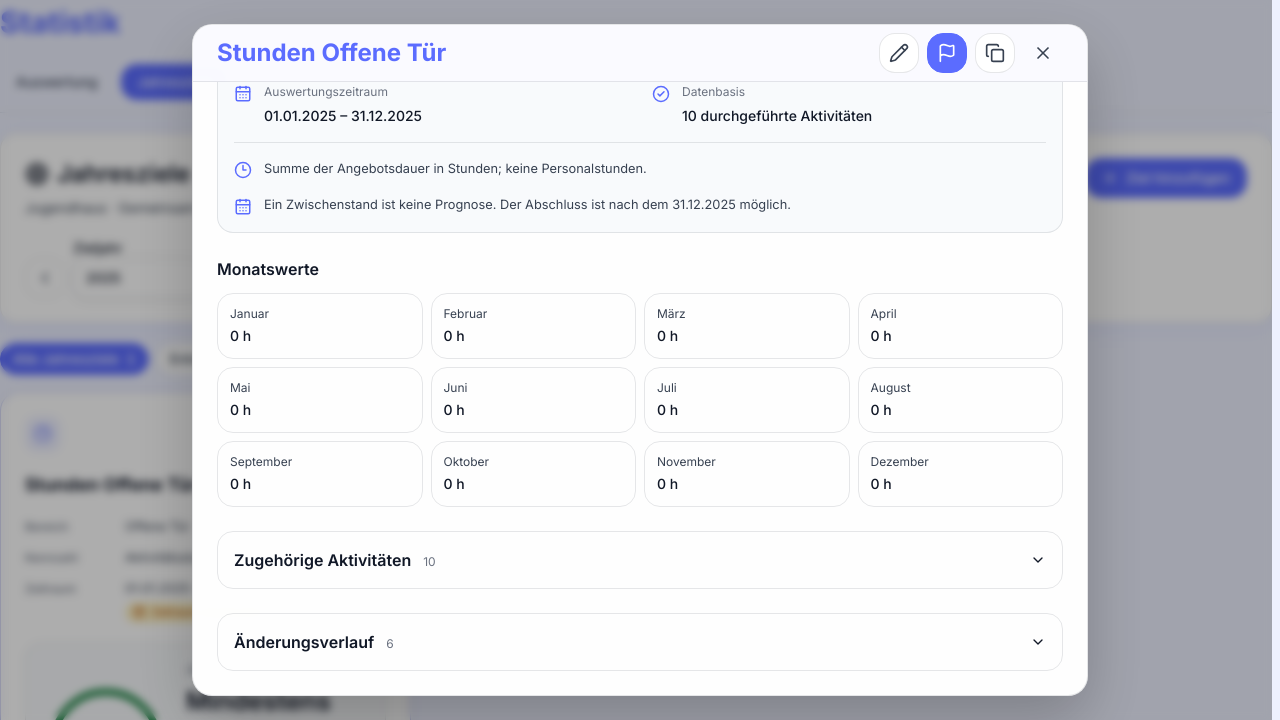
Test case: Annual target UI permissions and flows › shows actions separately from reasons for the existing chronological history
(page scrolled)
Step 1. Click the heading "Änderungsverlauf 6" → click(304, 642), box 234,632 -> 1046,652
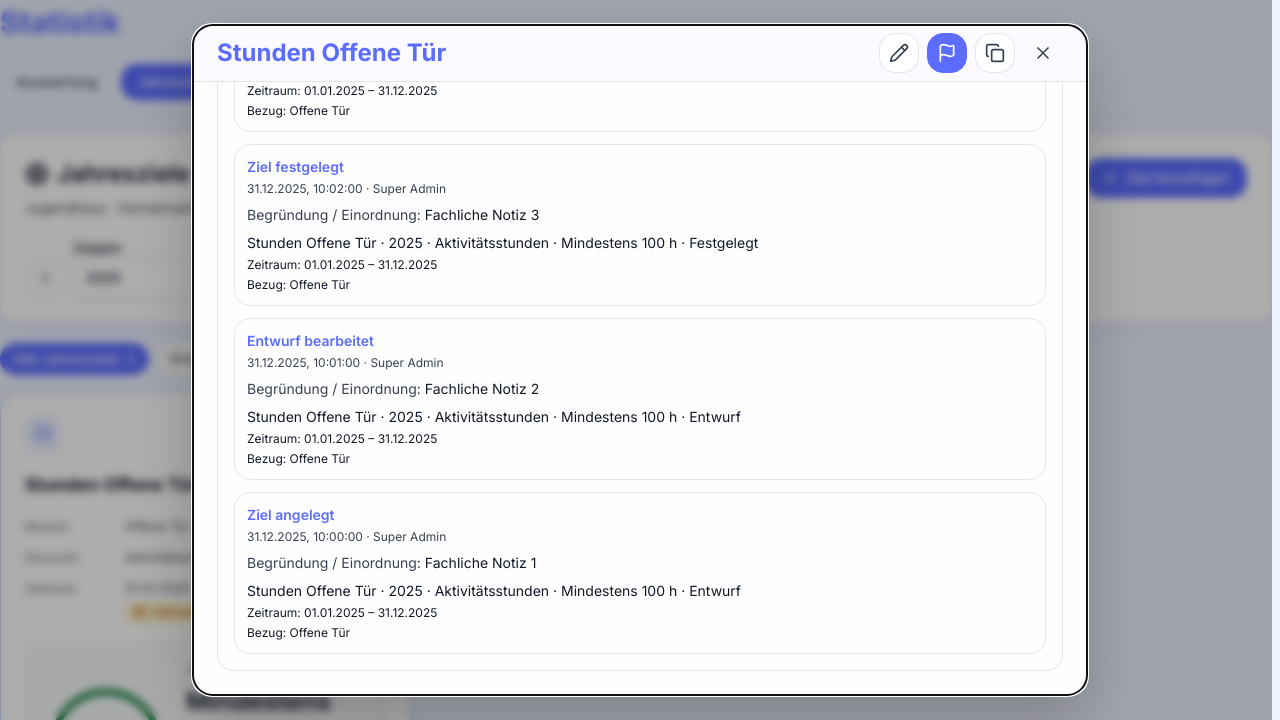
Expected: the text "Ziel festgelegt" is shown, 247,158 -> 344,175
Expected: the text "Begründung / Einordnung:" next to "Fachliche Notiz 3" is shown, 247,206 -> 421,223
Expected: the text "Entwurf bearbeitet" is shown, 247,332 -> 374,349
